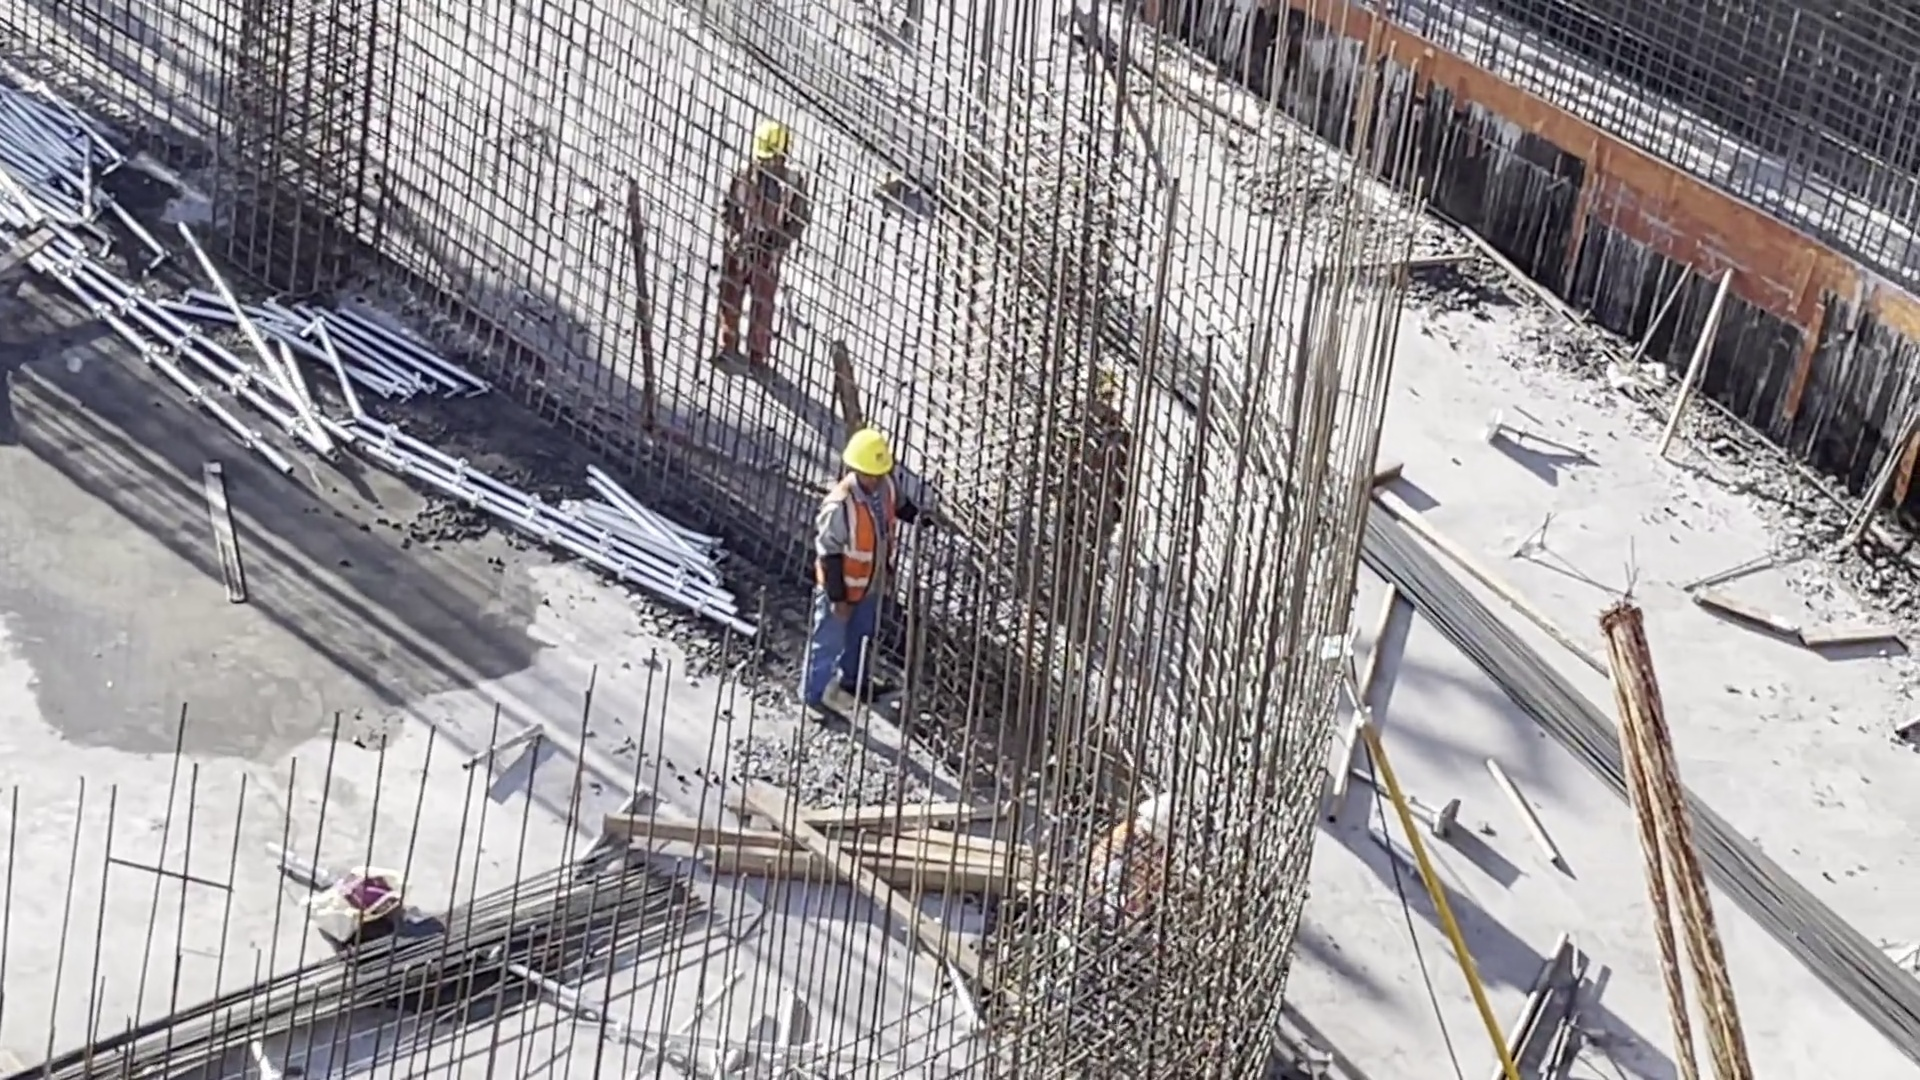helmet: (843, 431, 893, 482), (1148, 789, 1201, 837), (755, 124, 803, 160), (1091, 368, 1122, 405)
person: (792, 427, 929, 719), (706, 119, 808, 368), (1059, 363, 1149, 627), (1084, 804, 1218, 948)
rebar: (1359, 514, 1920, 1060), (49, 833, 697, 1080)
scaffold: (195, 283, 478, 440), (511, 484, 744, 628), (1, 108, 134, 254)
vest: (820, 473, 917, 606), (1068, 410, 1133, 541), (733, 167, 805, 279), (1090, 822, 1184, 901)
